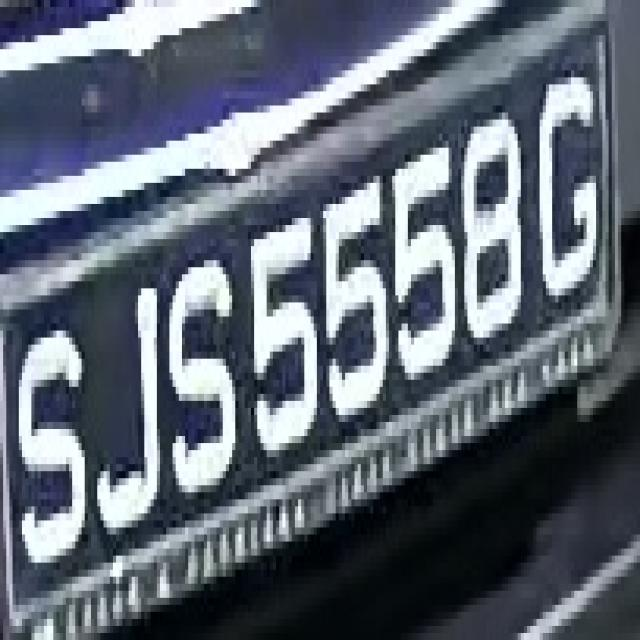5: (239, 204, 323, 464), (383, 141, 464, 408), (314, 183, 398, 429)
8: (455, 106, 533, 366)
G: (536, 70, 608, 324)
J: (91, 253, 173, 563)
S: (154, 246, 248, 499), (19, 324, 97, 584)
